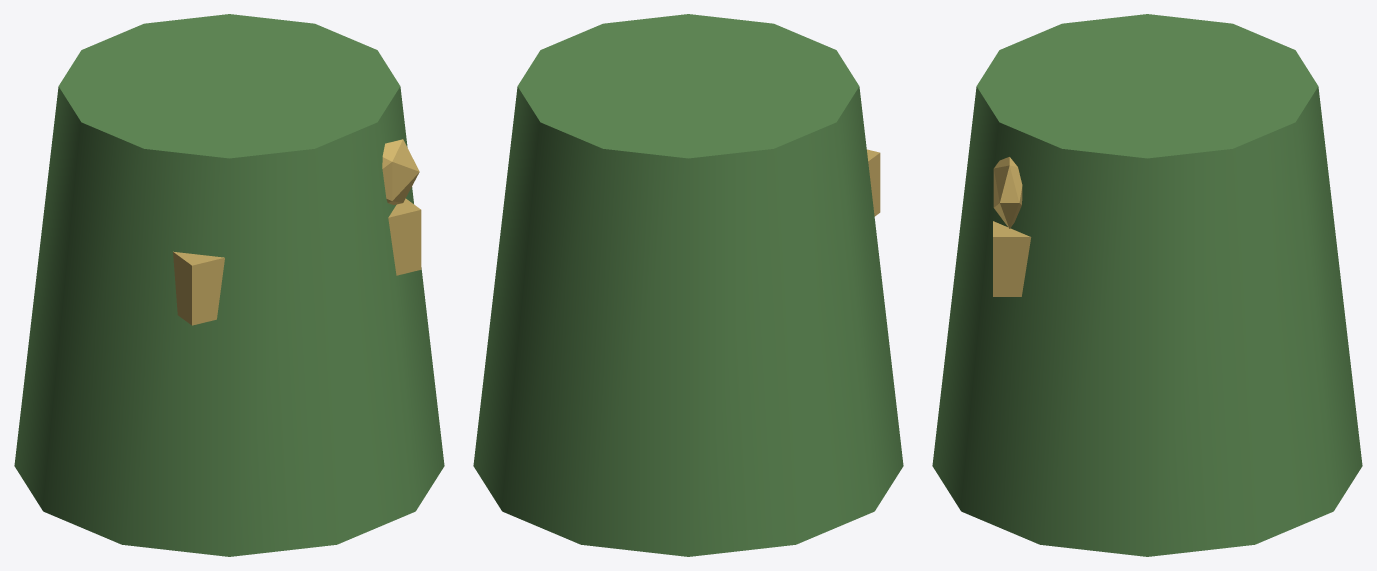
The model's file is child_01_outfit.glb.
The picture shows the model from 3 angles, left to right: view 1: azimuth 30°, elevation 25°; view 2: azimuth 150°, elevation 25°; view 3: azimuth 270°, elevation 25°; orthographic projection.
Parts seen in each view (by area): view 1: outfit_torso, outfit_trim, outfit_badge; view 2: outfit_torso, outfit_trim; view 3: outfit_torso, outfit_trim, outfit_badge.
Boxes of the visible parts, <box> form: outfit_torso: <box>14,14,444,556</box>; outfit_trim: <box>173,198,421,325</box>; outfit_badge: <box>382,139,419,204</box>; outfit_torso: <box>473,14,903,556</box>; outfit_trim: <box>867,149,880,216</box>; outfit_torso: <box>932,14,1362,556</box>; outfit_trim: <box>993,221,1031,296</box>; outfit_badge: <box>993,157,1022,228</box>.
Bounding box in the file's own units: 0.78 × 0.76 × 0.78.
